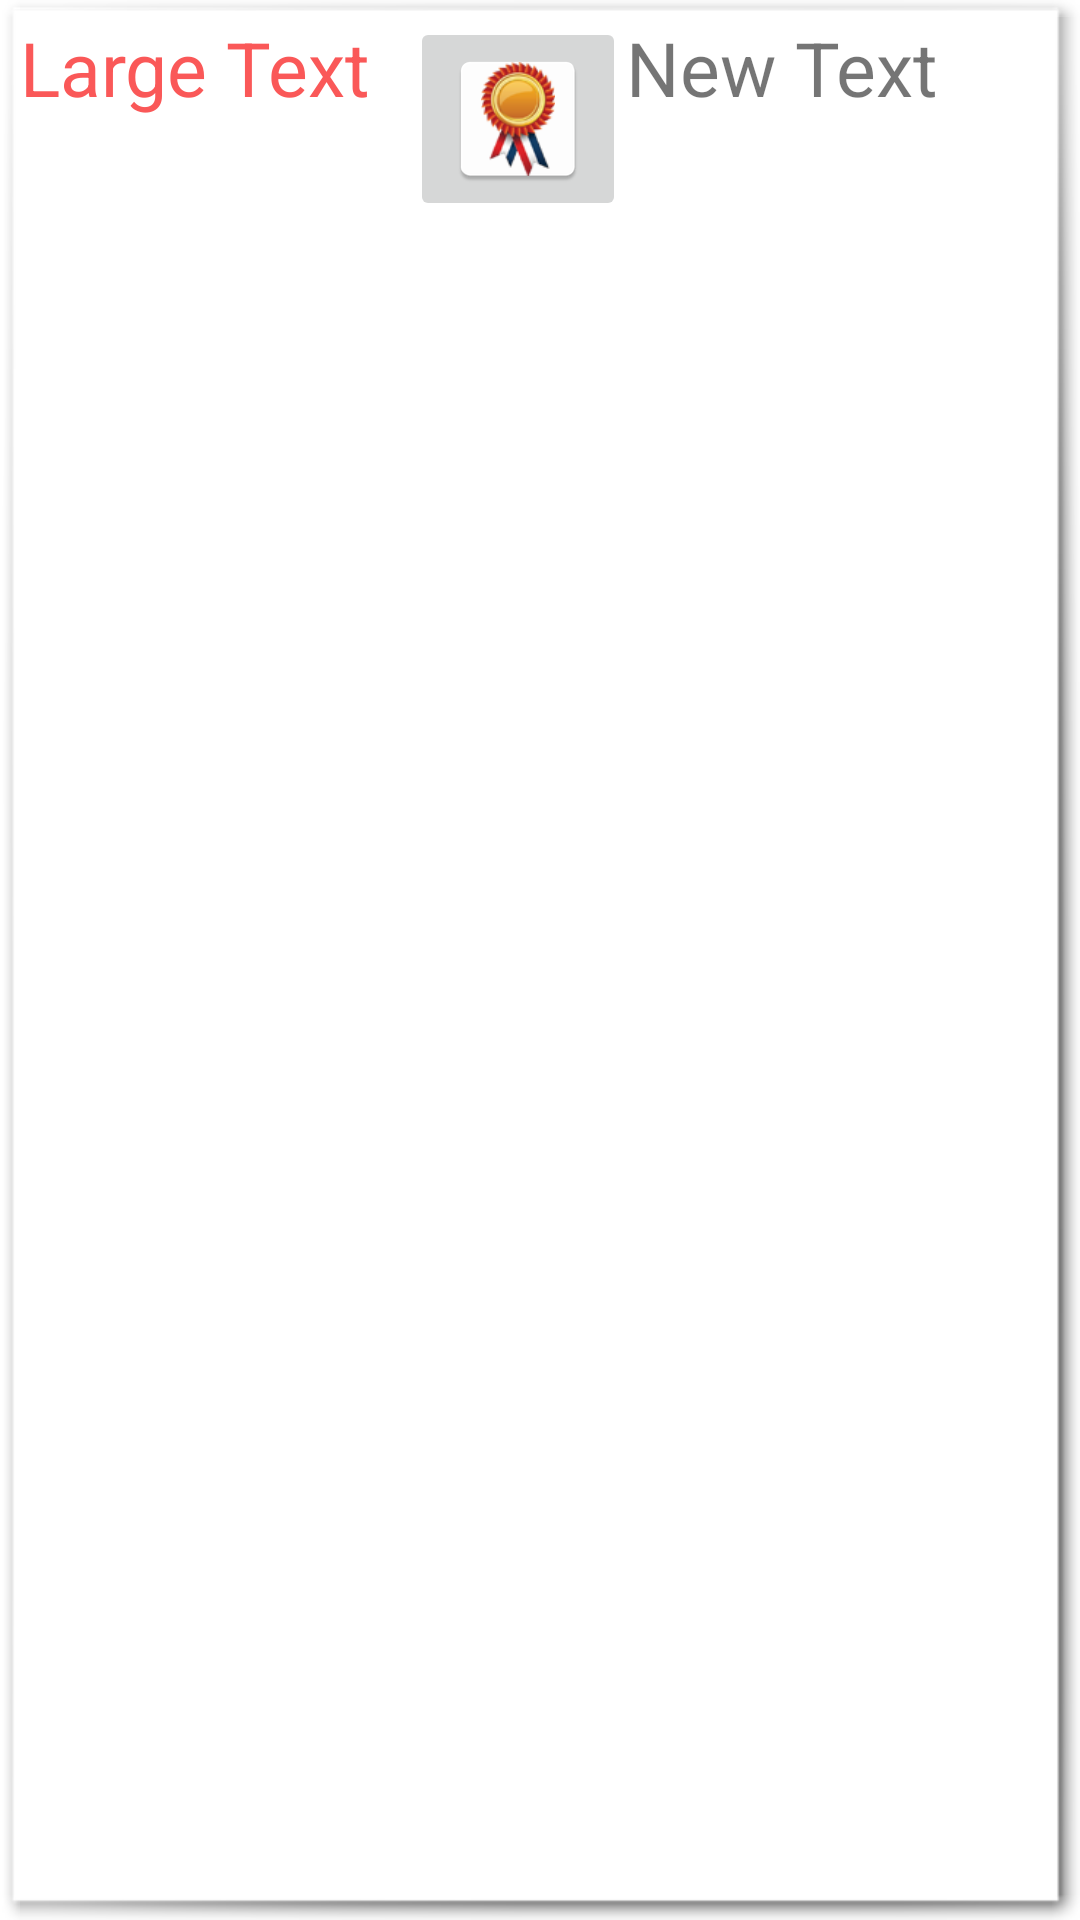

Named icons in this screenshot (1080 x 1920) and their centers, (x,y):
icredit: (518,119)
